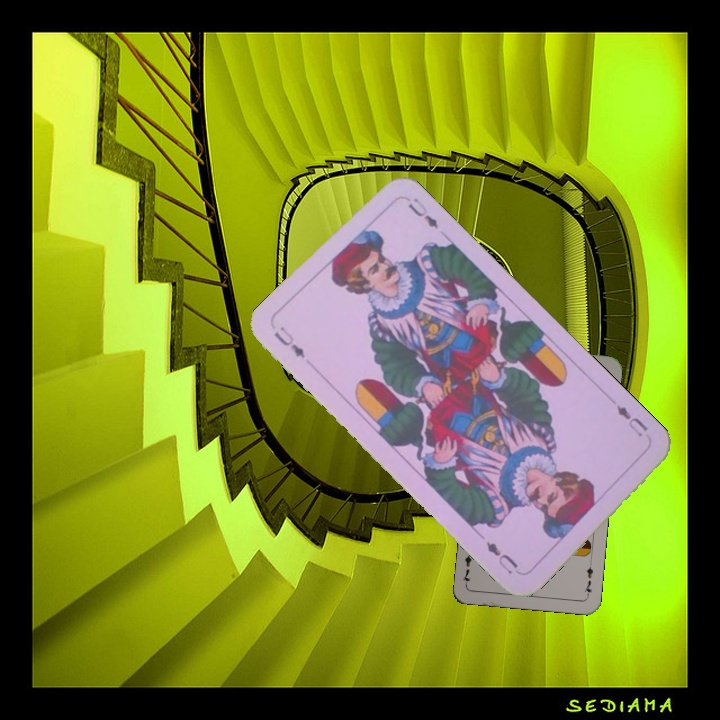E7: (580, 558, 596, 599)
EU: (612, 400, 651, 440), (270, 322, 308, 361)
